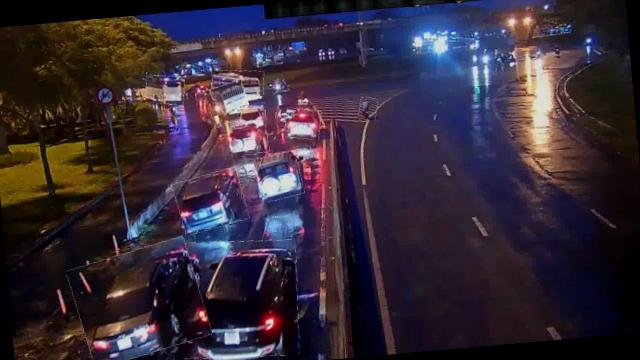Bike: (358, 96, 378, 121)
Bus: (211, 68, 265, 99), (145, 72, 186, 106)
Car: (69, 239, 209, 360), (172, 235, 303, 360), (173, 169, 248, 234), (255, 151, 304, 202), (228, 117, 268, 156), (284, 106, 322, 141), (238, 108, 267, 128)
Truck: (204, 80, 249, 115)
